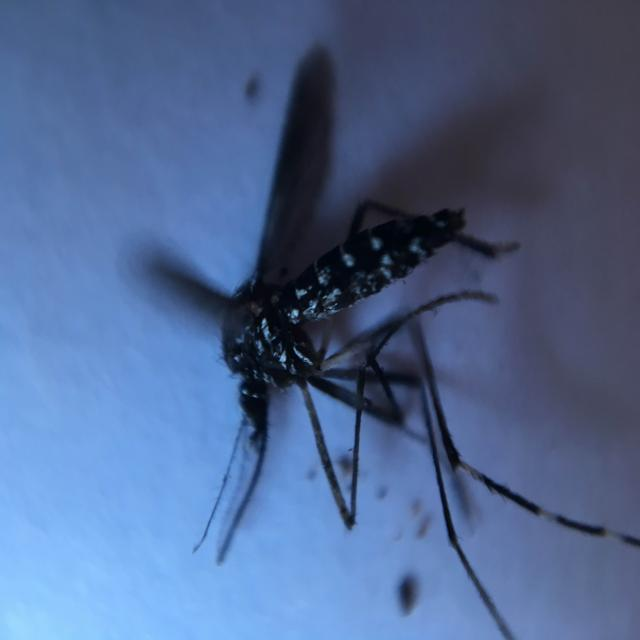albopictus: (174, 155, 622, 598)
